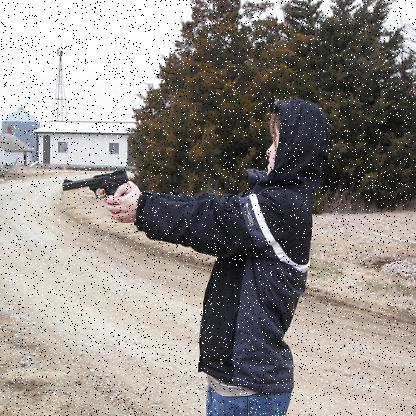pistol: (61, 168, 131, 206)
